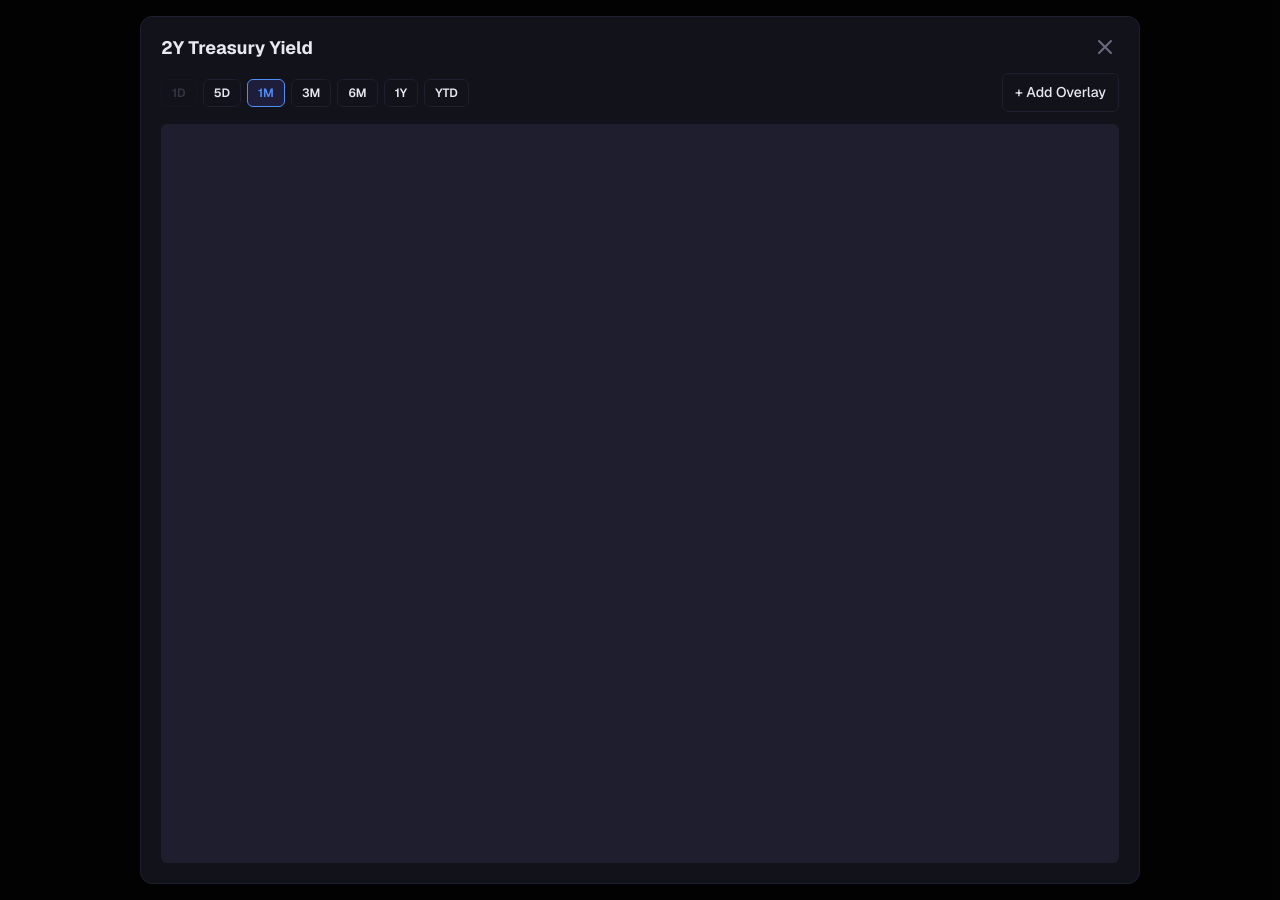
Test case: ChartModal — Options Overlay Selector integration › passes correct ticker prop to OptionsOverlaySelector
Click the button titled "Add option price overlay to chart": (1061, 92) [1002,73,1119,112]
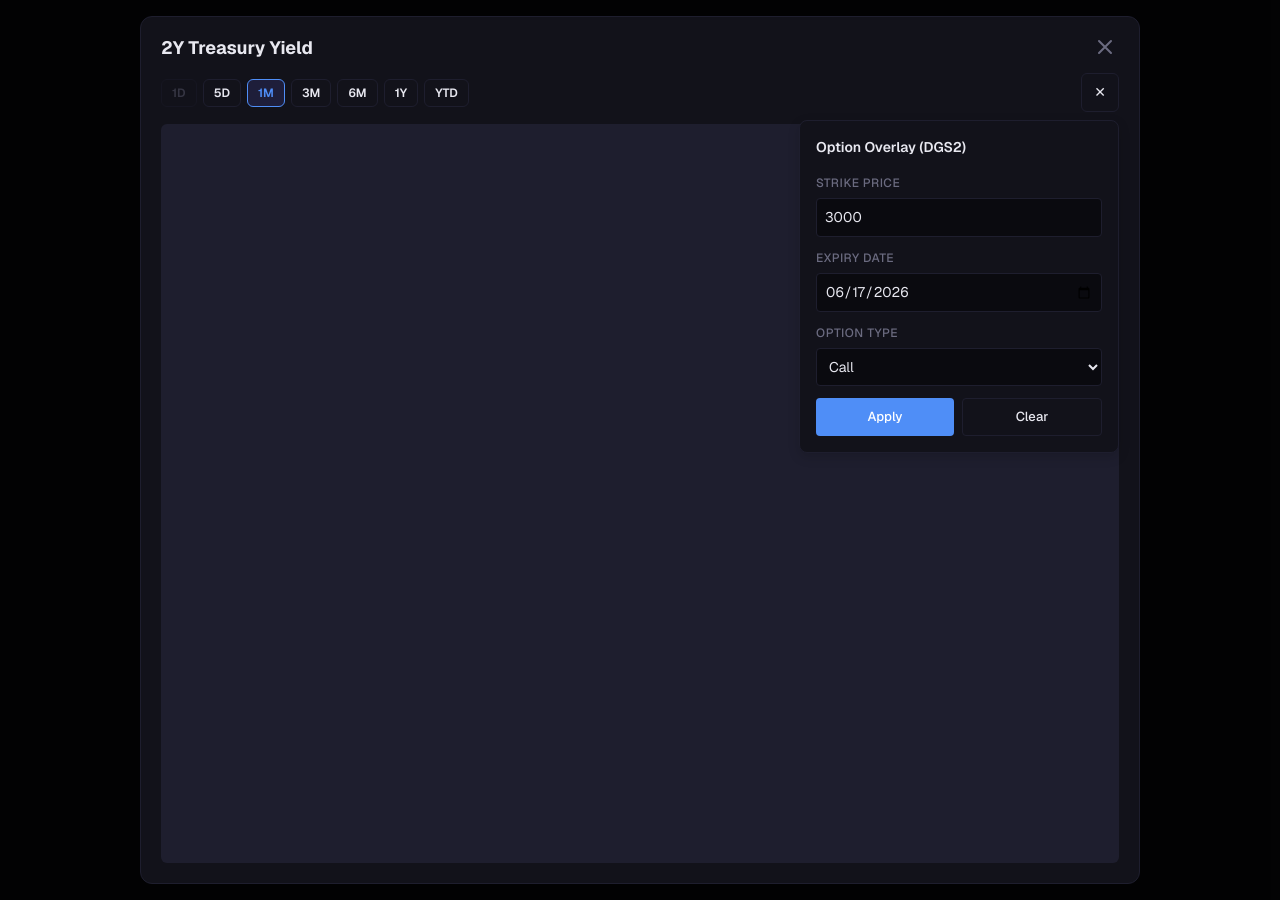
Check: the heading "Option Overlay (DGS2)" is shown, box [816,138,966,156]
